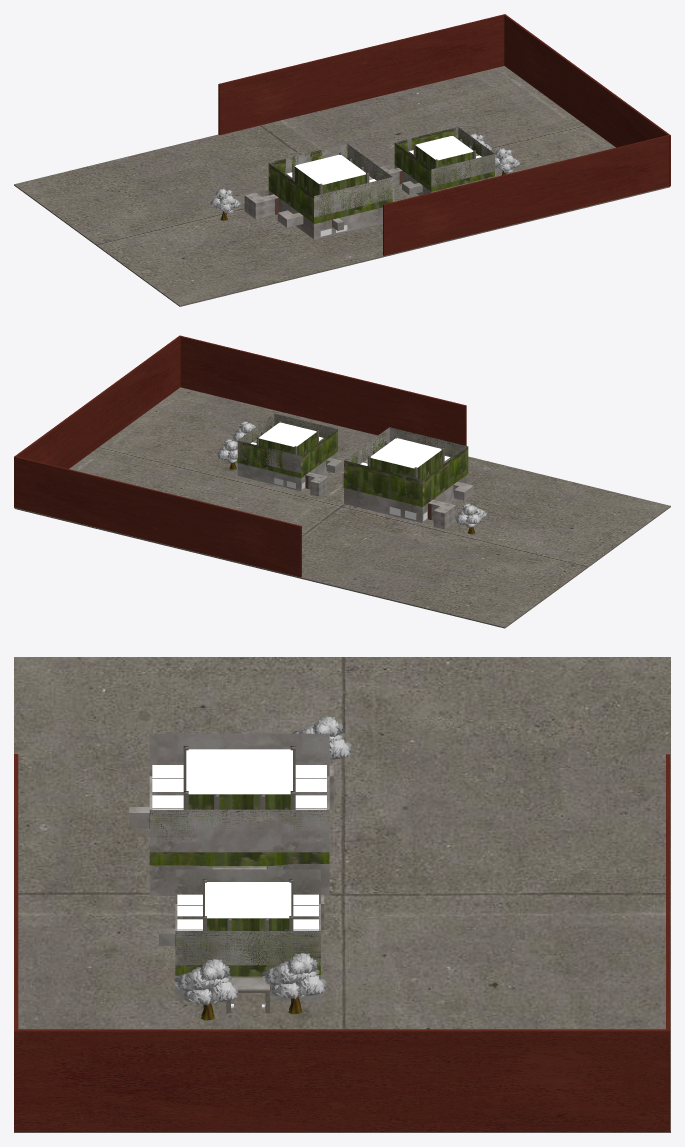
The model's file is SampleScene.gltf.
3 views of the same model, one above another, from view 1: azimuth 30°, elevation 25°; view 2: azimuth 150°, elevation 25°; view 3: azimuth 270°, elevation 25° (orthographic). The views are drawn at different scales.
Visible parts, largest first — view 1: ss, s (1), s, Cube, s (2), Cube_11, tree_1_LOD0 (×2), Cube.003, Cube.003_86; view 2: ss, s (1), s, Cube, s (2), Cube_11, Cube.003, tree_1_LOD0, Cube.003_86; view 3: ss, s (2), Cube, Cube_11, tree_1_LOD0 (×3), s (1), Cube.003, s, Cube.003_86, Cube.002.
Part boxes in pixels (x1,y1,x2,y2): ss: [14, 66, 669, 306]; s (1): [218, 14, 505, 135]; s: [383, 135, 669, 255]; Cube: [244, 143, 394, 239]; s (2): [504, 14, 670, 186]; Cube_11: [380, 127, 496, 195]; tree_1_LOD0 (×2): [210, 148, 520, 220]; Cube.003: [294, 166, 366, 195]; Cube.003_86: [415, 145, 473, 169]; ss: [14, 387, 670, 628]; s (1): [14, 456, 301, 577]; s: [179, 335, 466, 445]; Cube: [342, 427, 473, 529]; s (2): [14, 335, 181, 468]; Cube_11: [236, 413, 342, 496]; Cube.003: [370, 450, 442, 479]; tree_1_LOD0: [454, 503, 487, 534]; Cube.003_86: [259, 432, 316, 455]; ss: [14, 657, 670, 1132]; s (2): [14, 1029, 669, 1131]; Cube: [129, 733, 333, 895]; Cube_11: [159, 869, 324, 1000]; tree_1_LOD0 (×3): [174, 716, 351, 1020]; s (1): [666, 754, 670, 1131]; Cube.003: [188, 794, 290, 809]; s: [14, 754, 18, 1030]; Cube.003_86: [207, 918, 289, 930]; Cube.002: [183, 746, 295, 809].
Size of what is drawn, in the model's own units: 269 by 28.1 by 158.
